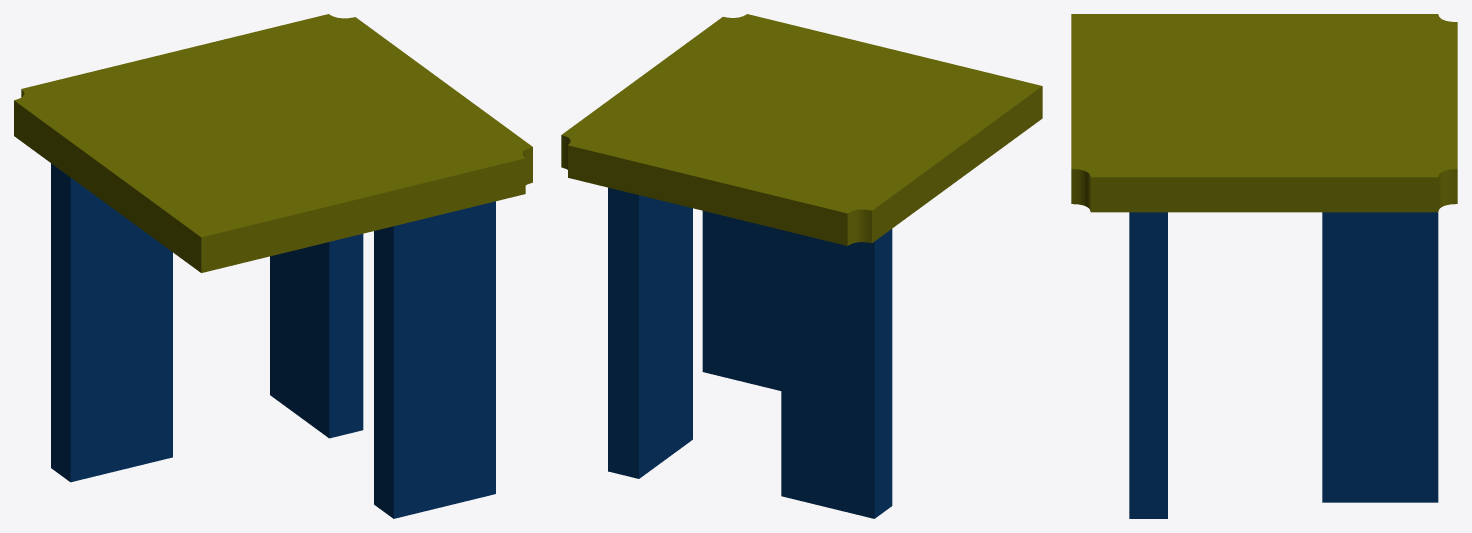
File: T5DirF.fbx
3 renders of one model, left to right at view 1: azimuth 30°, elevation 25°; view 2: azimuth 150°, elevation 25°; view 3: azimuth 270°, elevation 25°, orthographic. The views are drawn at different scales.
Parts seen in each view (by area): view 1: 1, 4, 2, 3; view 2: 4, 2, 1, 3; view 3: 2, 1, 3, 4.
Boxes of the visible parts, x1,y1,x2,y2 form: 1: [274, 82, 532, 518]; 4: [14, 51, 272, 482]; 2: [175, 14, 443, 438]; 3: [102, 123, 371, 272]; 4: [707, 114, 952, 518]; 2: [561, 76, 796, 478]; 1: [642, 14, 886, 390]; 3: [798, 48, 1042, 183]; 2: [1264, 95, 1457, 502]; 1: [1071, 95, 1264, 518]; 3: [1071, 14, 1264, 95]; 4: [1264, 14, 1457, 95].
Size of the model in its own units: 200 by 200 by 200.
